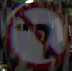Don't turn left: (5, 2, 71, 70)
